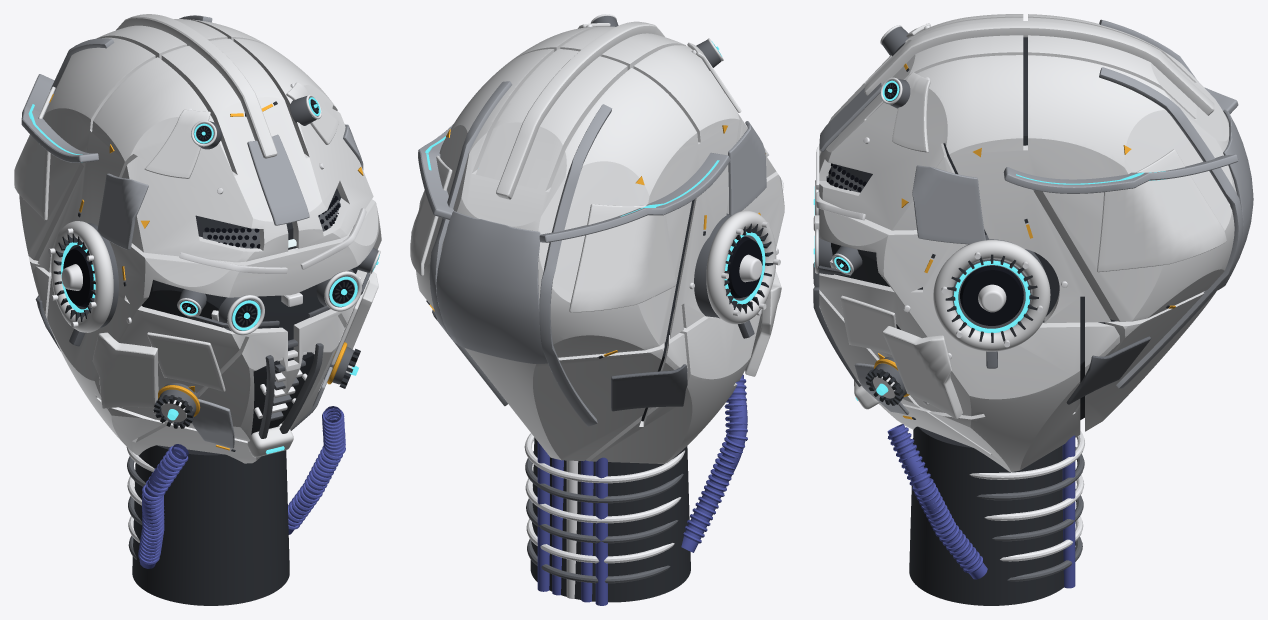
File: helmet.glb
3 views of the same model, side by side, from view 1: azimuth 30°, elevation 25°; view 2: azimuth 150°, elevation 25°; view 3: azimuth 270°, elevation 25° (orthographic). The views are drawn at different scales.
Parts seen in each view (by area): view 1: Helmet; view 2: Helmet; view 3: Helmet.
Boxes of the visible parts, x1,y1,x2,y2 form: Helmet: (14,14,381,605); Helmet: (410,14,784,605); Helmet: (813,14,1253,605).
Size of the model in its own units: 1.53 by 2.65 by 1.93.
